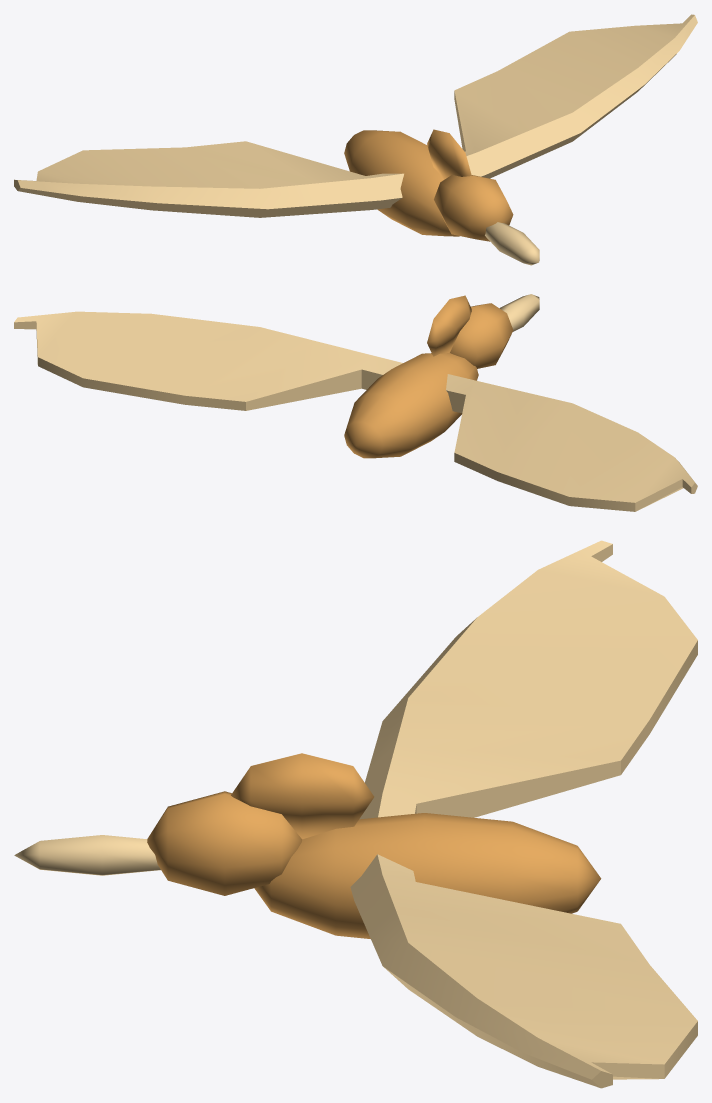
The model's file is ptero-far.glb.
3 views of the same model, one above another, from view 1: azimuth 30°, elevation 25°; view 2: azimuth 150°, elevation 25°; view 3: azimuth 270°, elevation 25° (orthographic). The views are drawn at different scales.
Parts seen in each view (by area): view 1: ptero-far; view 2: ptero-far; view 3: ptero-far.
Boxes of the visible parts, x1,y1,x2,y2 form: ptero-far: (14, 14, 697, 265); ptero-far: (14, 294, 697, 511); ptero-far: (14, 540, 697, 1088).
Bounding box in the file's own units: 3.9 × 0.63 × 2.12.
